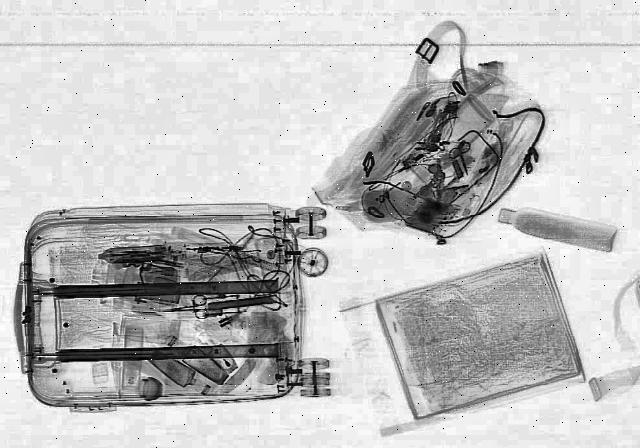Scissors: (157, 294, 213, 324)
